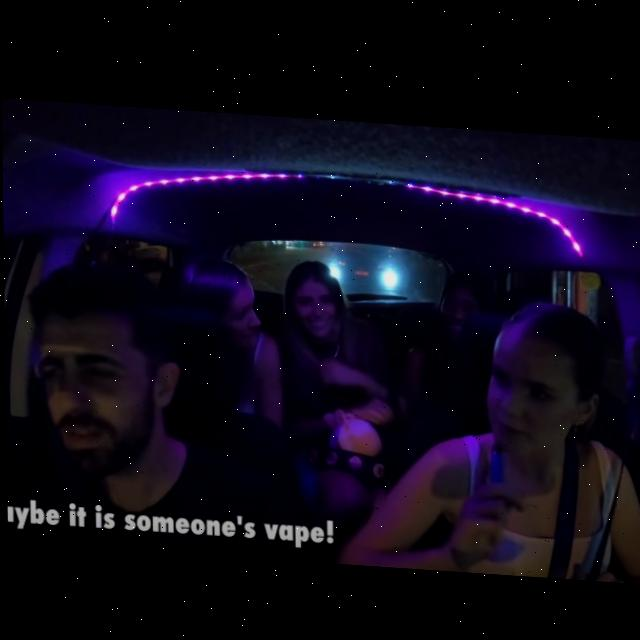vape: (486, 434, 502, 479)
